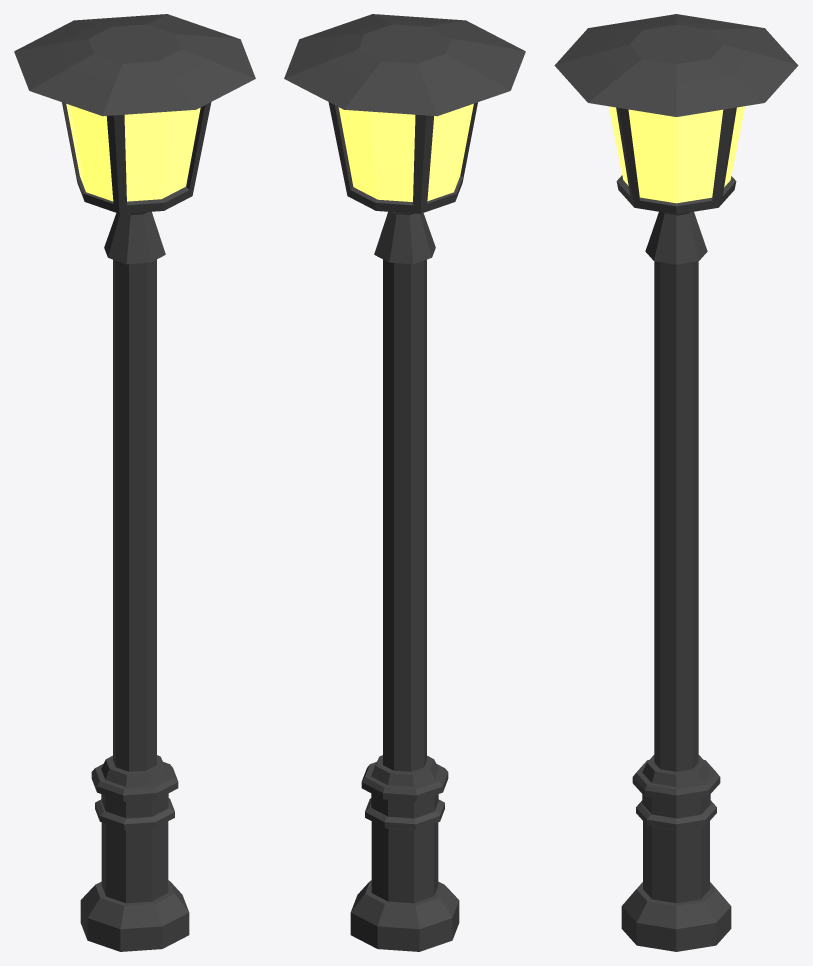
Rendered from Farola.fbx.
3 renders of one model, left to right at view 1: azimuth 30°, elevation 25°; view 2: azimuth 150°, elevation 25°; view 3: azimuth 270°, elevation 25°, orthographic.
Visible parts, largest first — view 1: Cube; view 2: Cube; view 3: Cube.
Part boxes in pixels (x1,y1,x2,y2): Cube: [14, 14, 255, 951]; Cube: [284, 14, 525, 951]; Cube: [554, 14, 798, 951].
Bounding box in the file's own units: 614 × 2455 × 614.
